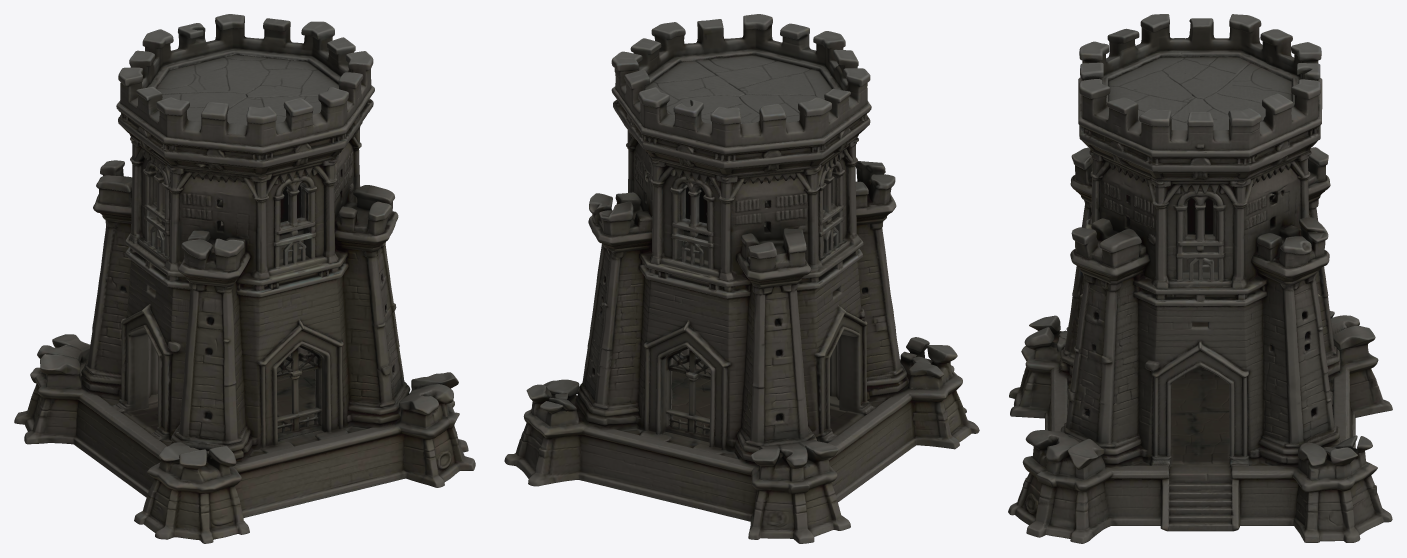
Rendered from chess_rook.glb.
The picture shows the model from 3 angles, left to right: view 1: azimuth 30°, elevation 25°; view 2: azimuth 150°, elevation 25°; view 3: azimuth 270°, elevation 25°; orthographic projection. The views are drawn at different scales.
Visible parts, largest first — view 1: Object_7, Object_6, Object_8, Object_9, Object_5, Object_4, Object_2, Object_10, Object_3; view 2: Object_2, Object_3, Object_4, Object_5, Object_9, Object_8, Object_6, Object_7, Object_10; view 3: Object_9, Object_5, Object_4, Object_7, Object_8, Object_2, Object_3, Object_10, Object_6.
Boxes of the visible parts, x1,y1,x2,y2 form: Object_7: (134, 87, 475, 542); Object_6: (109, 88, 411, 501); Object_8: (116, 72, 473, 543); Object_9: (124, 51, 396, 494); Object_5: (34, 18, 346, 453); Object_4: (51, 15, 323, 449); Object_2: (14, 14, 244, 474); Object_10: (40, 40, 355, 475); Object_3: (30, 16, 245, 464); Object_2: (504, 89, 871, 543); Object_3: (523, 93, 855, 530); Object_4: (579, 70, 842, 531); Object_5: (611, 43, 850, 514); Object_9: (651, 22, 908, 464); Object_8: (697, 19, 973, 477); Object_6: (615, 14, 950, 447); Object_7: (743, 16, 979, 449); Object_10: (636, 32, 872, 486); Object_9: (1108, 14, 1207, 512); Object_5: (1192, 14, 1305, 531); Object_4: (1192, 21, 1329, 542); Object_7: (1009, 41, 1197, 543); Object_8: (1008, 29, 1206, 532); Object_2: (1271, 51, 1392, 542); Object_3: (1199, 43, 1383, 542); Object_10: (1158, 18, 1291, 531); Object_6: (1067, 21, 1253, 528).
Size of the model in its own units: 0.9016 by 1 by 0.8802.
1 material, 1 textured.
